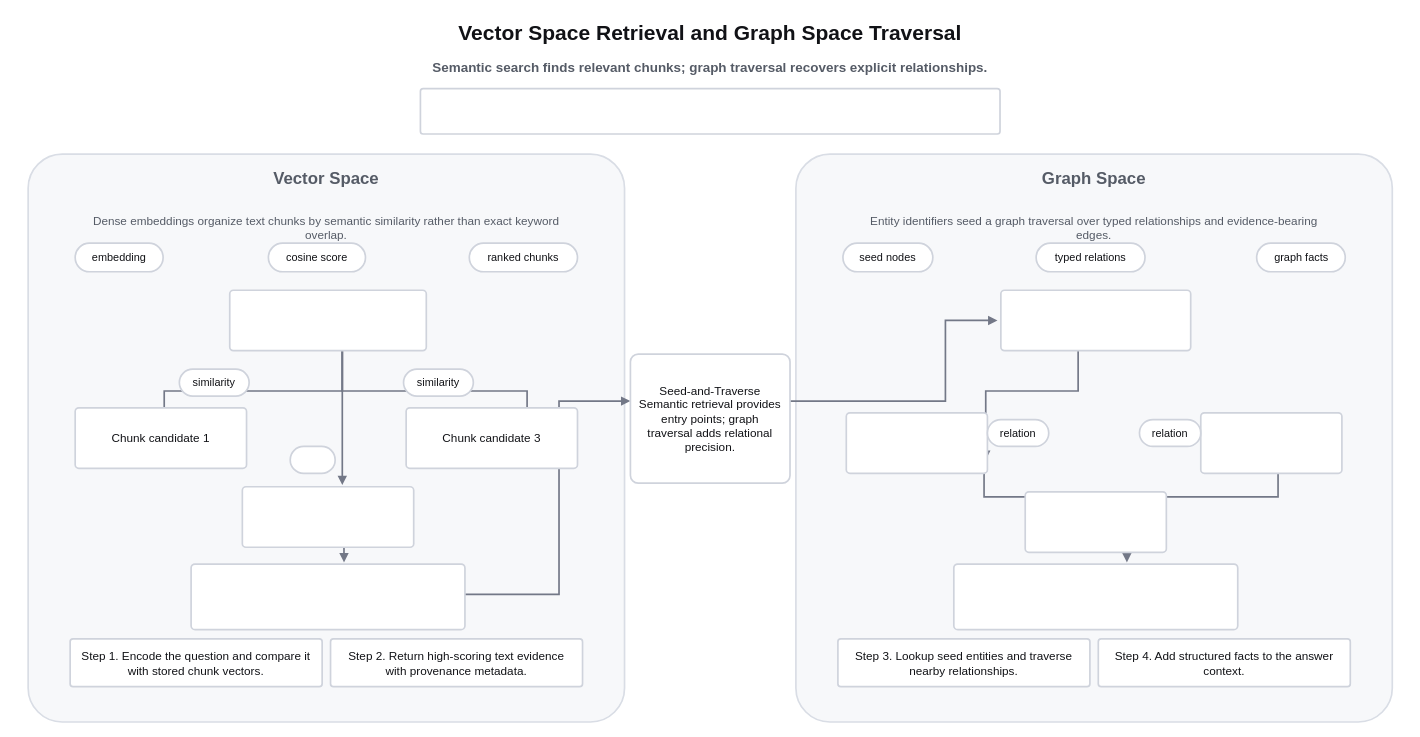
This 1420x737 diagram has some shape labels left out. Each missing label, with the centre of its shape:
"Chunk candidate 2" belongs at point 327,517.
"Chunk metadata includes entity IDs" belongs at point 327,596.
"Entity A" belongs at point 916,443.
"Entity B" belongs at point 1095,522.
"Entity C" belongs at point 1271,443.
"Query embedding" belongs at point 327,320.
"rank" belongs at point 312,459.
"Seed entity IDs" belongs at point 1095,320.
"Triples, paths, and neighborhood facts" belongs at point 1095,596.
"User question" belongs at point 709,110.
